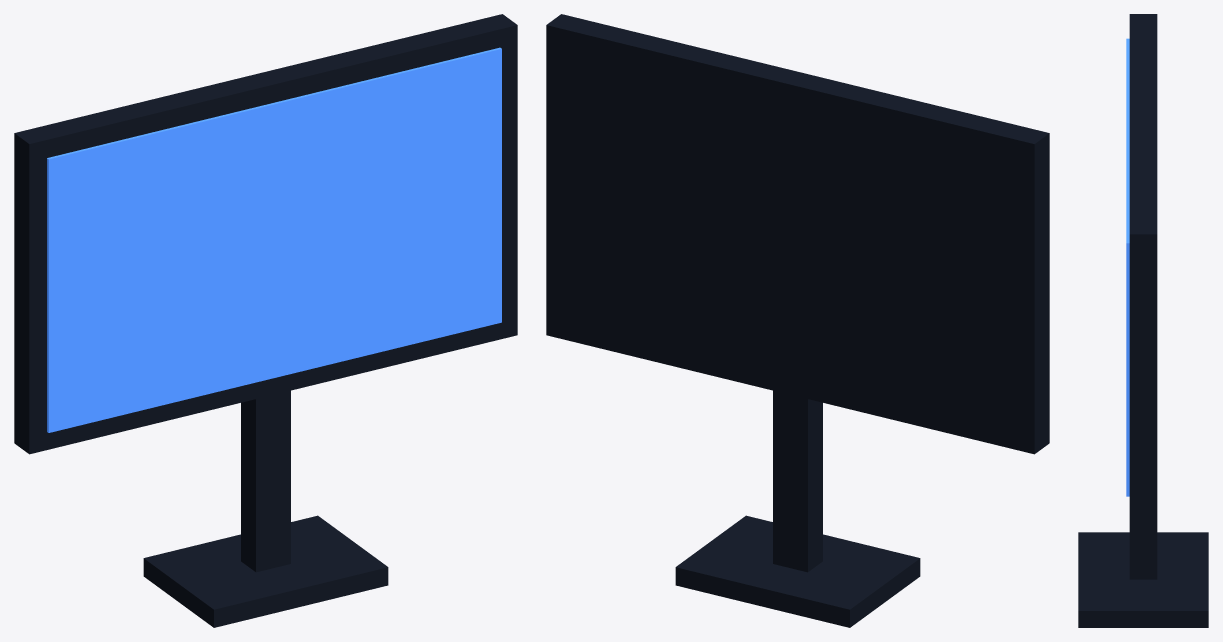
File: monitor.glb
The picture shows the model from 3 angles, left to right: view 1: azimuth 30°, elevation 25°; view 2: azimuth 150°, elevation 25°; view 3: azimuth 270°, elevation 25°; orthographic projection. The views are drawn at different scales.
Visible parts, largest first — view 1: screen, frame, monitor; view 2: frame, monitor; view 3: frame, monitor, screen.
Part boxes in pixels (<box>): screen: <box>47,47,501,432</box>; frame: <box>14,14,517,454</box>; monitor: <box>143,374,388,627</box>; frame: <box>546,14,1049,454</box>; monitor: <box>675,372,920,627</box>; frame: <box>1129,14,1157,521</box>; monitor: <box>1078,521,1208,627</box>; screen: <box>1126,38,1129,496</box>.
Bounding box in the file's own units: 0.56 × 0.55 × 0.14.
